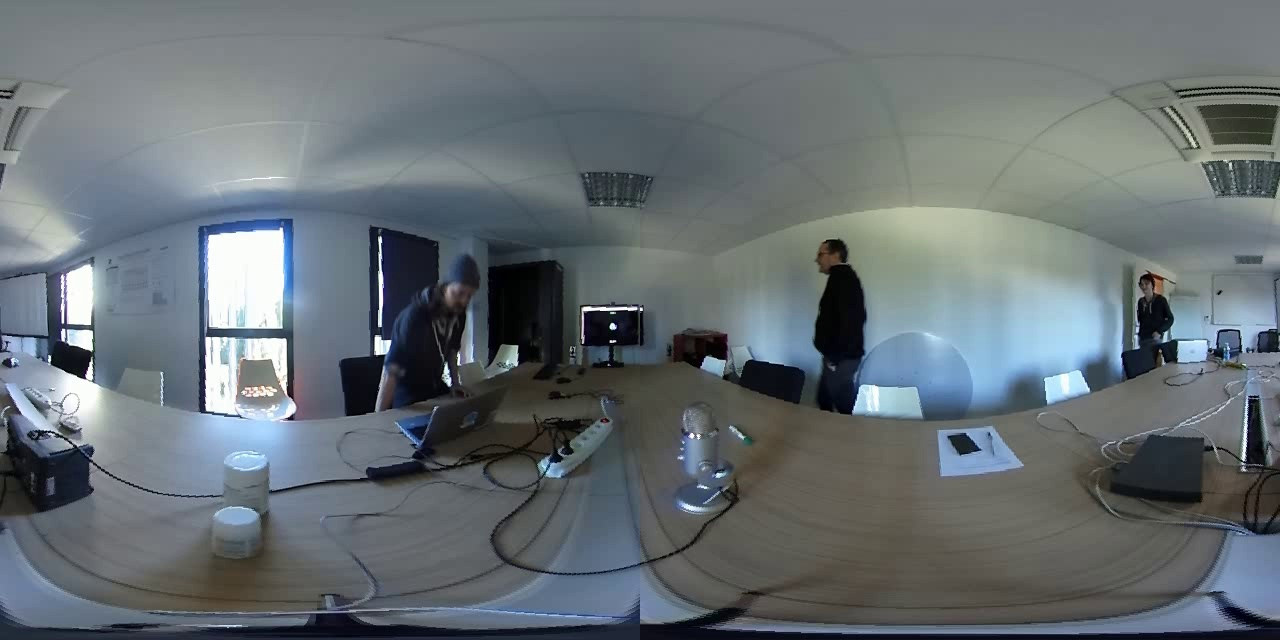person: (795, 232, 904, 374), (380, 246, 488, 385), (1122, 262, 1177, 358)
